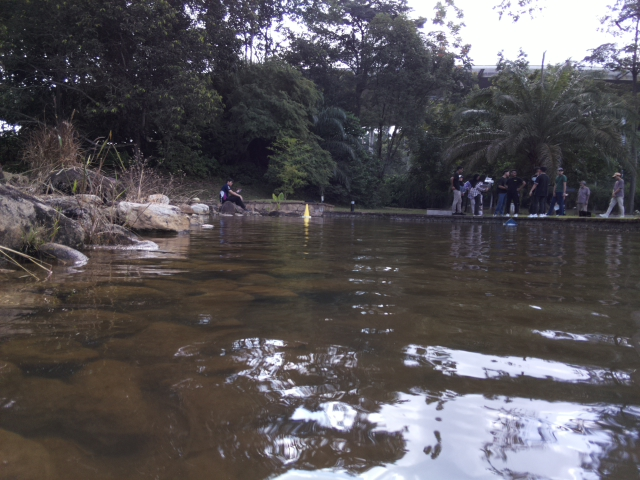checkpoint: (300, 203, 313, 219)
